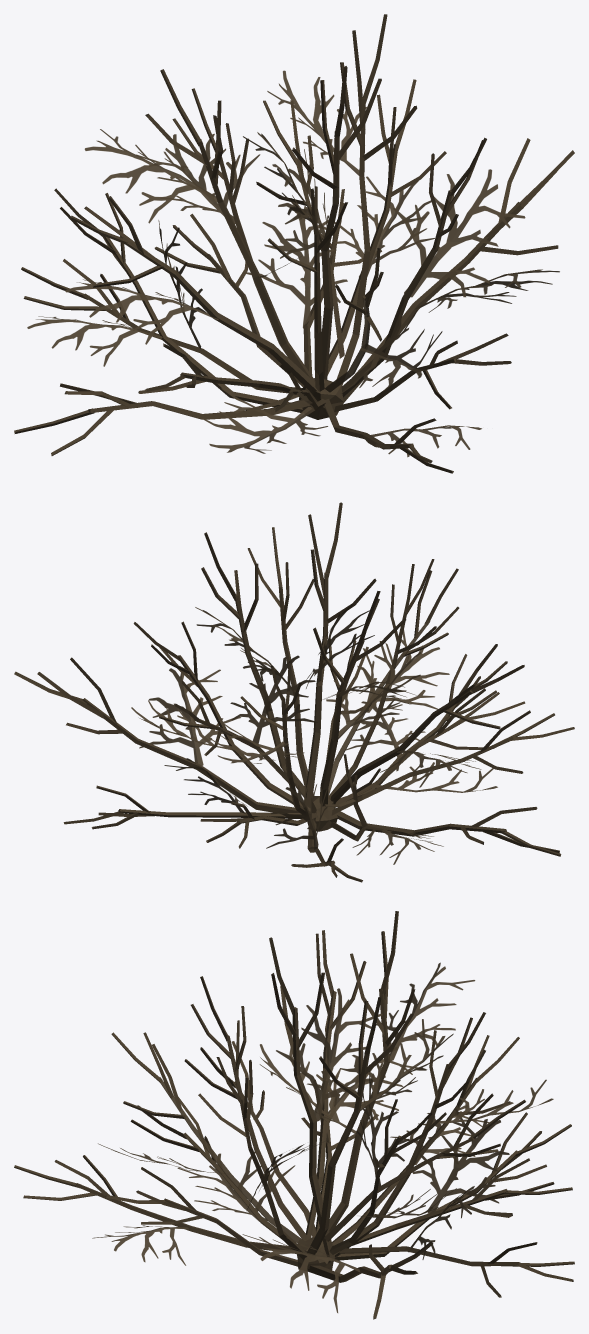
File: swp_Env_Bush_Bramble_01.glb
3 views of the same model, one above another, from view 1: azimuth 30°, elevation 25°; view 2: azimuth 150°, elevation 25°; view 3: azimuth 270°, elevation 25° (orthographic). The views are drawn at different scales.
Parts seen in each view (by area): view 1: SM_Env_Bush_Bramble_01_LOD0; view 2: SM_Env_Bush_Bramble_01_LOD0; view 3: SM_Env_Bush_Bramble_01_LOD0.
Part boxes in pixels (box(x1,y1,x2,y2)): SM_Env_Bush_Bramble_01_LOD0: box(14, 14, 574, 473); SM_Env_Bush_Bramble_01_LOD0: box(14, 502, 574, 882); SM_Env_Bush_Bramble_01_LOD0: box(14, 911, 574, 1319).
Size of the model in its own units: 2.83 by 1.65 by 2.51.
1 material, 1 textured.
